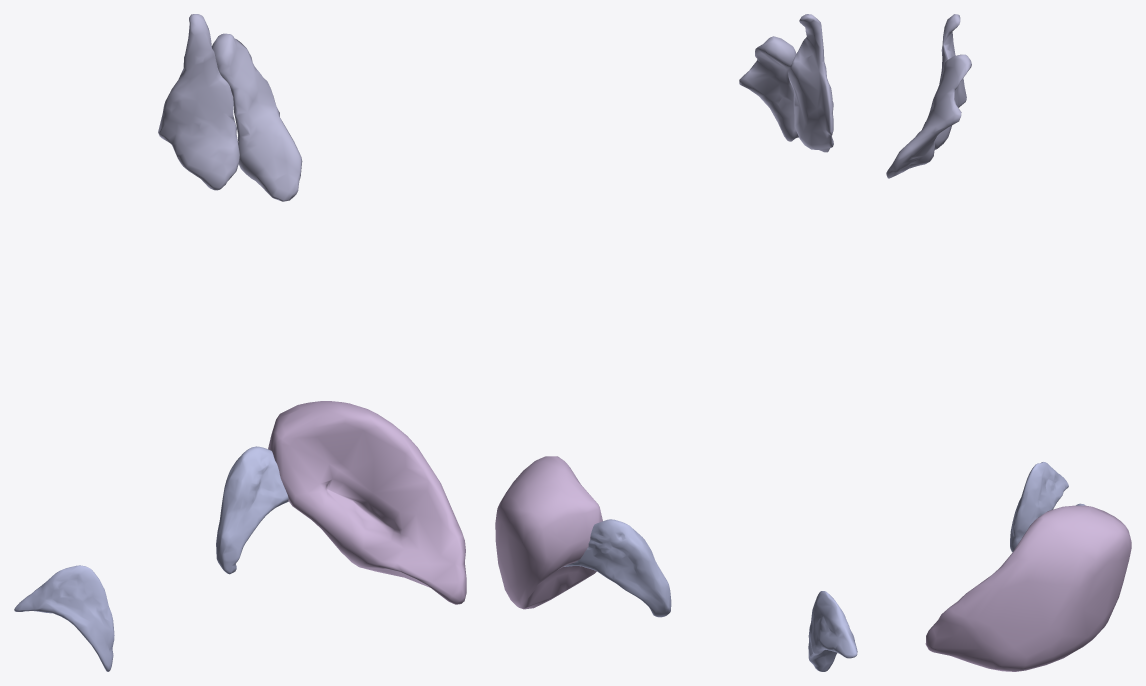
Rendered from body-endocrine.lod0.glb.
3 views of the same model, side by side, from view 1: azimuth 30°, elevation 25°; view 2: azimuth 150°, elevation 25°; view 3: azimuth 270°, elevation 25° (orthographic). The views are drawn at different scales.
Parts seen in each view (by area): view 1: spleen, lobe-of-thymus-r, lobe-of-thymus-l, adrenal-gland-l, adrenal-gland-r; view 2: spleen, adrenal-gland-l, lobe-of-thymus-r, lobe-of-thymus-l, adrenal-gland-r; view 3: spleen, lobe-of-thymus-l, adrenal-gland-r, lobe-of-thymus-r.
Part boxes in pixels (x1,y1,x2,y2): spleen: (268, 401, 466, 604); lobe-of-thymus-r: (158, 14, 239, 190); lobe-of-thymus-l: (212, 33, 302, 201); adrenal-gland-l: (216, 446, 288, 574); adrenal-gland-r: (14, 565, 114, 671); spleen: (495, 456, 602, 609); adrenal-gland-l: (564, 519, 671, 617); lobe-of-thymus-r: (788, 14, 833, 152); lobe-of-thymus-l: (739, 36, 798, 141); adrenal-gland-r: (808, 591, 857, 671); spleen: (925, 505, 1131, 671); lobe-of-thymus-l: (886, 54, 971, 178); adrenal-gland-r: (1010, 462, 1068, 552); lobe-of-thymus-r: (934, 14, 966, 149).
Size of the model in its own units: 0.1764 by 0.2842 by 0.1131.
